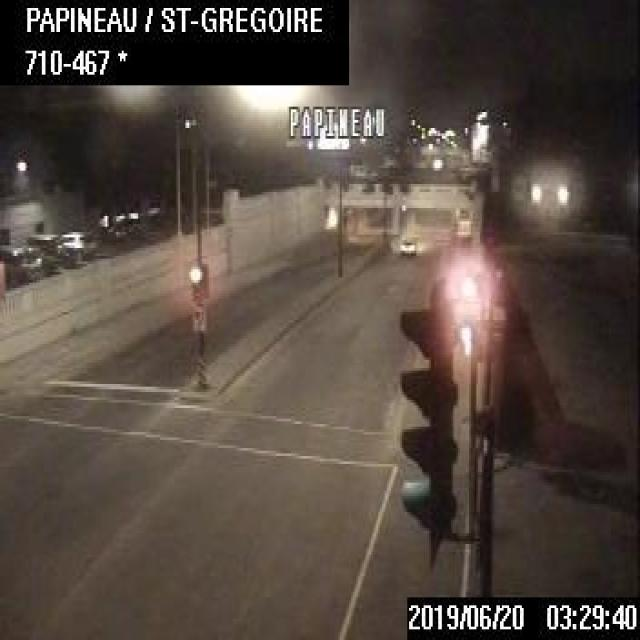vehicle: (0, 243, 40, 280), (57, 230, 97, 260), (28, 244, 58, 275), (399, 237, 415, 253)
